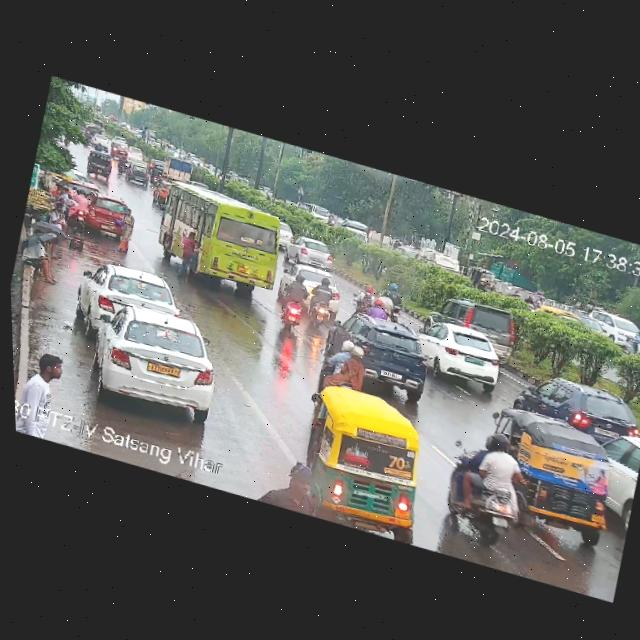bus: (145, 171, 291, 297)
car: (451, 397, 640, 564), (71, 290, 230, 426), (512, 363, 640, 449), (76, 254, 183, 336), (412, 316, 511, 393), (356, 310, 435, 402), (436, 288, 523, 359), (595, 421, 640, 515), (77, 191, 136, 242), (585, 305, 640, 352), (277, 259, 322, 315), (285, 231, 339, 269), (85, 148, 118, 182), (120, 161, 153, 188), (474, 267, 500, 293), (122, 151, 147, 167)
motorcycle: (431, 422, 525, 542), (318, 335, 371, 397), (301, 269, 340, 322), (278, 267, 310, 326), (354, 281, 393, 321), (66, 188, 90, 228), (114, 155, 131, 178)
person: (17, 348, 71, 417), (16, 223, 69, 284), (110, 201, 139, 254), (175, 225, 204, 273), (50, 185, 80, 228)
truck: (407, 244, 464, 276), (159, 153, 195, 184)
